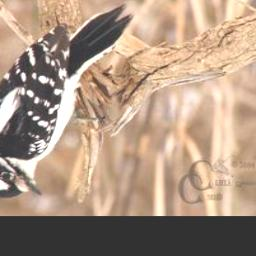Woodpecker: (0, 0, 135, 200)
